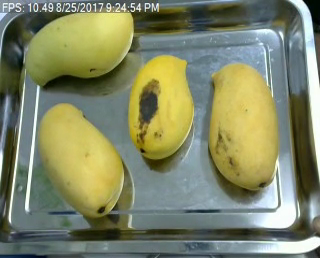Mango: (37, 102, 126, 219), (209, 61, 281, 193), (24, 5, 134, 89), (126, 53, 192, 163)
